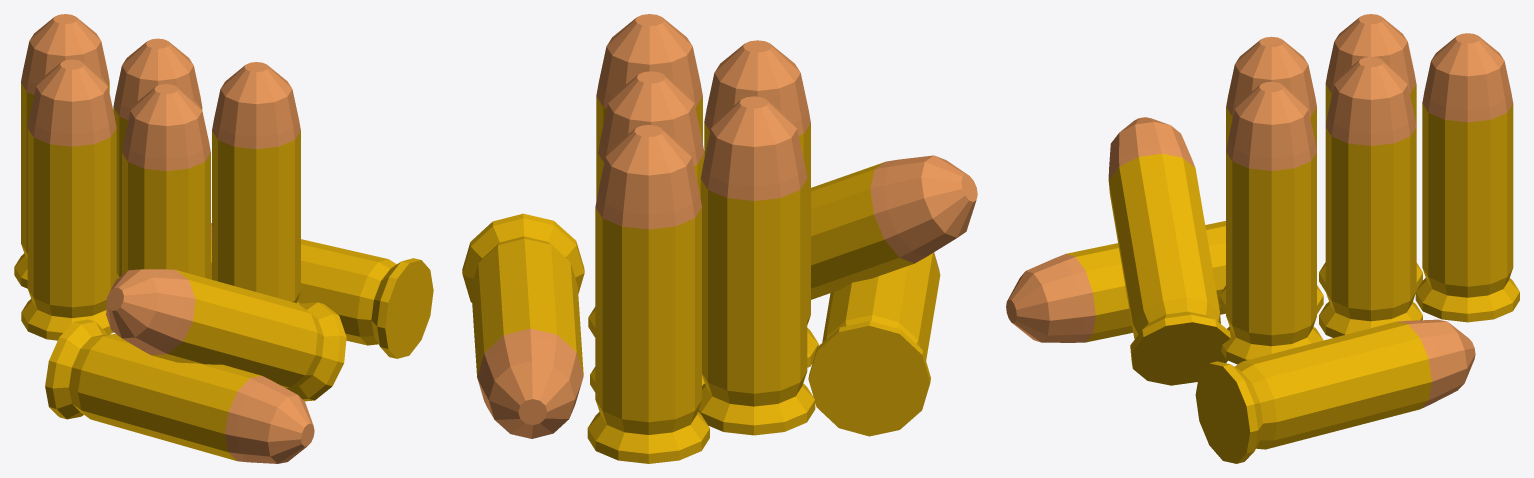
File: Ammo.fbx
The picture shows the model from 3 angles, left to right: view 1: azimuth 30°, elevation 25°; view 2: azimuth 150°, elevation 25°; view 3: azimuth 270°, elevation 25°; orthographic projection. The views are drawn at different scales.
Visible parts, largest first — view 1: pistol shell.006; view 2: pistol shell.006; view 3: pistol shell.006.
Part boxes in pixels (x1,y1,x2,y2): pistol shell.006: [14, 14, 433, 463]; pistol shell.006: [462, 14, 977, 463]; pistol shell.006: [1006, 14, 1519, 463].
Size of the model in its own units: 553 by 412 by 618.
